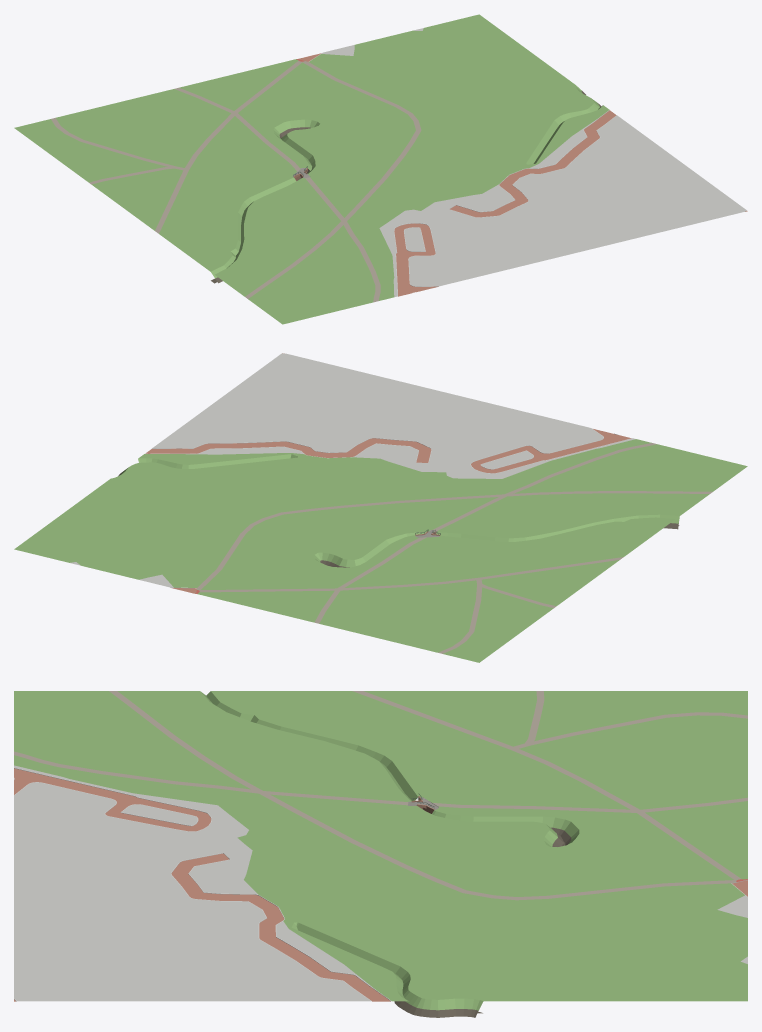
File: ground_4_11.glb
3 renders of one model, top to bottom at view 1: azimuth 30°, elevation 25°; view 2: azimuth 150°, elevation 25°; view 3: azimuth 270°, elevation 25°, orthographic. The views are drawn at different scales.
Parts seen in each view (by area): view 1: ground_4_11; view 2: ground_4_11; view 3: ground_4_11.
Part boxes in pixels (x1=…): ground_4_11: x1=14, y1=14, x2=747, y2=324; ground_4_11: x1=14, y1=353, x2=747, y2=662; ground_4_11: x1=14, y1=691, x2=747, y2=1017.
Bounding box in the file's own units: 204 × 4.82 × 200.
